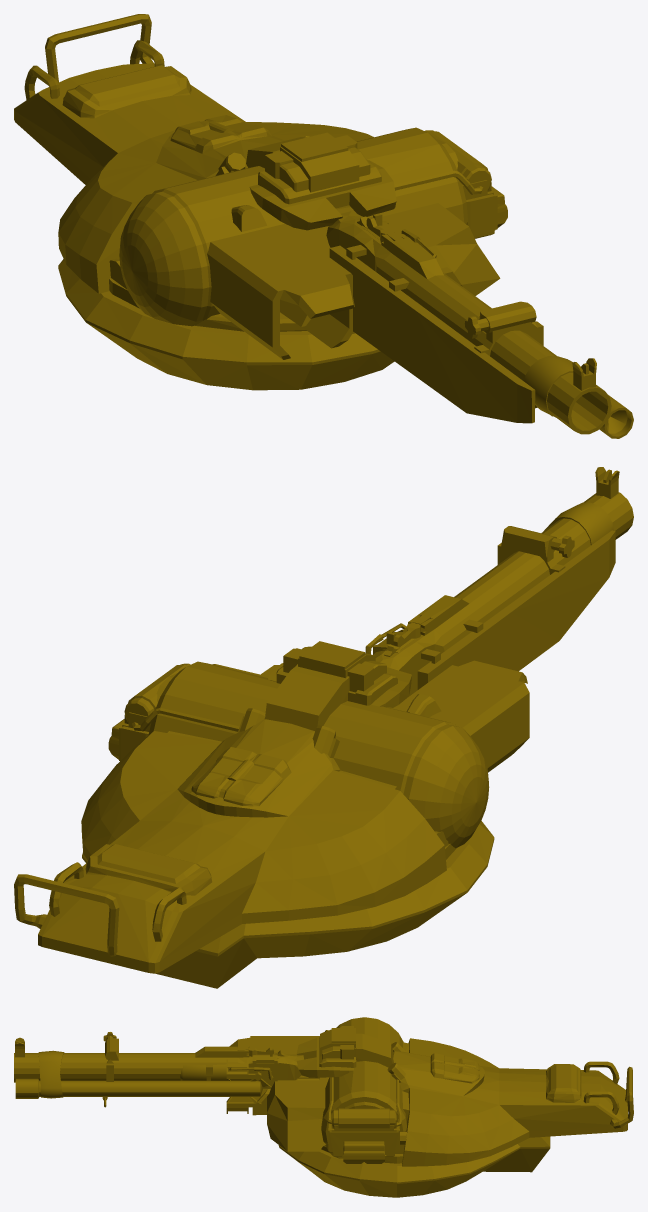
File: LaserTankTurret.fbx
The picture shows the model from 3 angles, top to bottom: view 1: azimuth 30°, elevation 25°; view 2: azimuth 150°, elevation 25°; view 3: azimuth 270°, elevation 25°; orthographic projection. The views are drawn at different scales.
Visible parts, largest first — view 1: LaserTankTurret; view 2: LaserTankTurret; view 3: LaserTankTurret.
Part boxes in pixels (x1,y1,x2,y2): LaserTankTurret: [14, 14, 633, 438]; LaserTankTurret: [14, 467, 633, 988]; LaserTankTurret: [14, 1017, 633, 1197].
Size of the model in its own units: 154 by 83.92 by 374.
